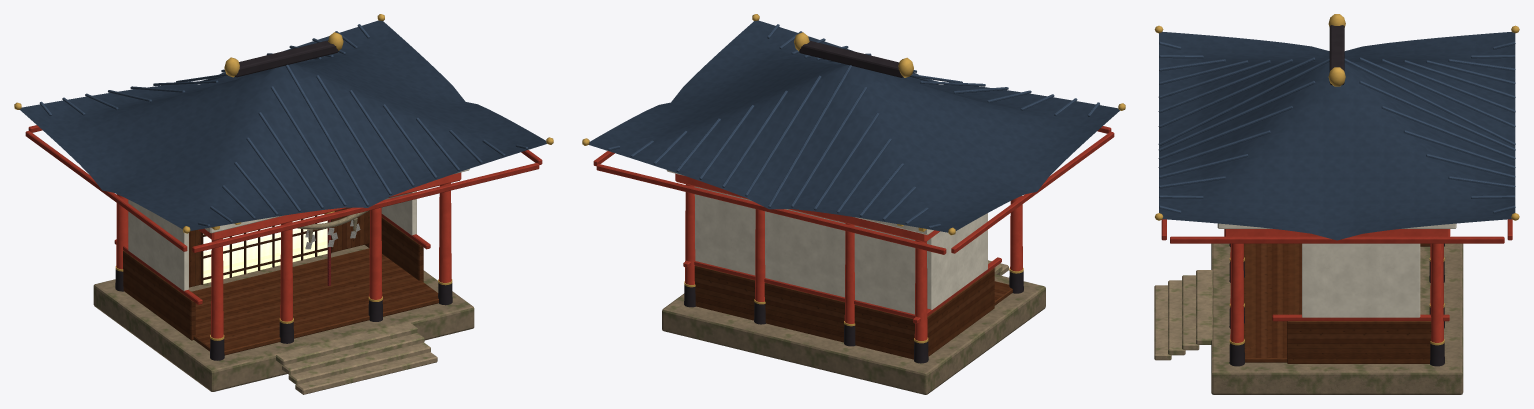
The model's file is env_shrine.glb.
3 renders of one model, left to right at view 1: azimuth 30°, elevation 25°; view 2: azimuth 150°, elevation 25°; view 3: azimuth 270°, elevation 25°, orthographic. The views are drawn at different scales.
Parts seen in each view (by area): view 1: env_shrine; view 2: env_shrine; view 3: env_shrine.
Part boxes in pixels (left/top/right/bottom): env_shrine: left=14, top=14, right=553, bottom=394; env_shrine: left=582, top=14, right=1125, bottom=394; env_shrine: left=1154, top=14, right=1519, bottom=394.
Size of the model in its own units: 10.37 by 7.3 by 8.41.
5 materials, 5 textured.
